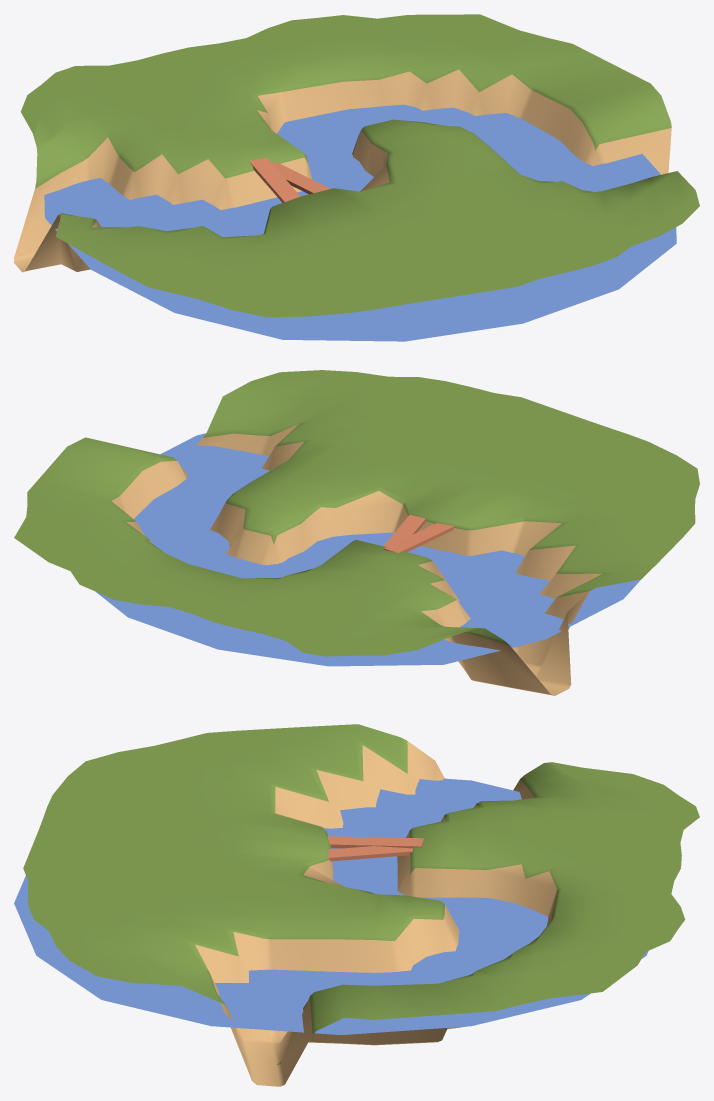
Rendered from plains river biome.fbx.
The picture shows the model from 3 angles, top to bottom: view 1: azimuth 30°, elevation 25°; view 2: azimuth 150°, elevation 25°; view 3: azimuth 270°, elevation 25°; orthographic projection. The views are drawn at different scales.
Parts seen in each view (by area): view 1: land, water, board 1, board 2; view 2: land, water, board 1, board 2; view 3: land, water, board 1, board 2.
Boxes of the visible parts, x1,y1,x2,y2 form: land: (14, 14, 699, 317); water: (44, 104, 676, 341); board 1: (249, 158, 300, 202); board 2: (272, 162, 330, 194); land: (14, 370, 699, 695); water: (96, 433, 640, 666); board 1: (384, 523, 454, 552); board 2: (383, 514, 425, 546); land: (23, 724, 699, 1086); water: (14, 778, 648, 1035); board 1: (327, 836, 423, 848); board 2: (328, 846, 412, 861).
Bounding box in the file's own units: 1277 × 165 × 1252.
